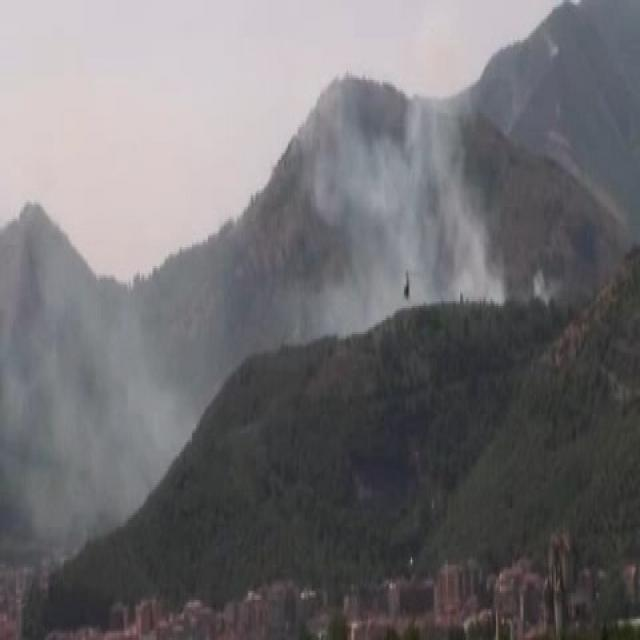smoke: (305, 79, 496, 329), (20, 278, 198, 502)
